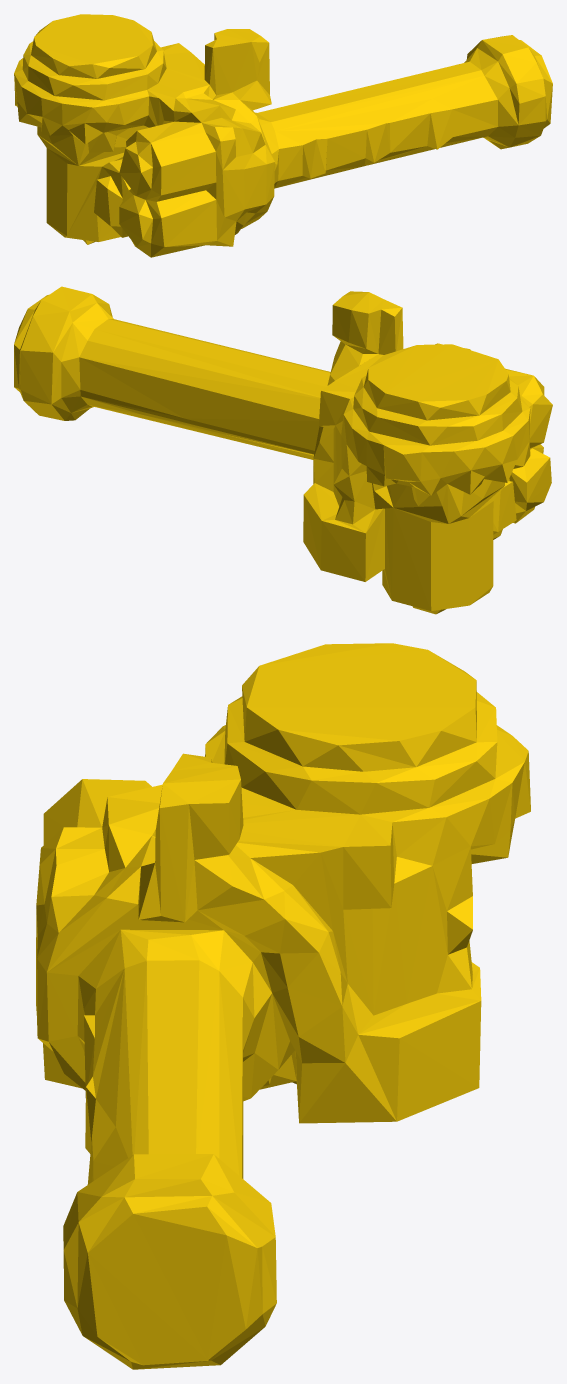
The picture shows the model from 3 angles, top to bottom: view 1: azimuth 30°, elevation 25°; view 2: azimuth 150°, elevation 25°; view 3: azimuth 270°, elevation 25°; orthographic projection. The views are drawn at different scales.
Visible parts, largest first — view 1: Node_0x7f98e9894f00; view 2: Node_0x7f98e9894f00; view 3: Node_0x7f98e9894f00.
Boxes of the visible parts, x1,y1,x2,y2 form: Node_0x7f98e9894f00: (14, 14, 552, 257); Node_0x7f98e9894f00: (14, 286, 552, 614); Node_0x7f98e9894f00: (36, 643, 530, 1369).
Size of the model in its own units: 1.26 by 0.5301 by 0.5854.
